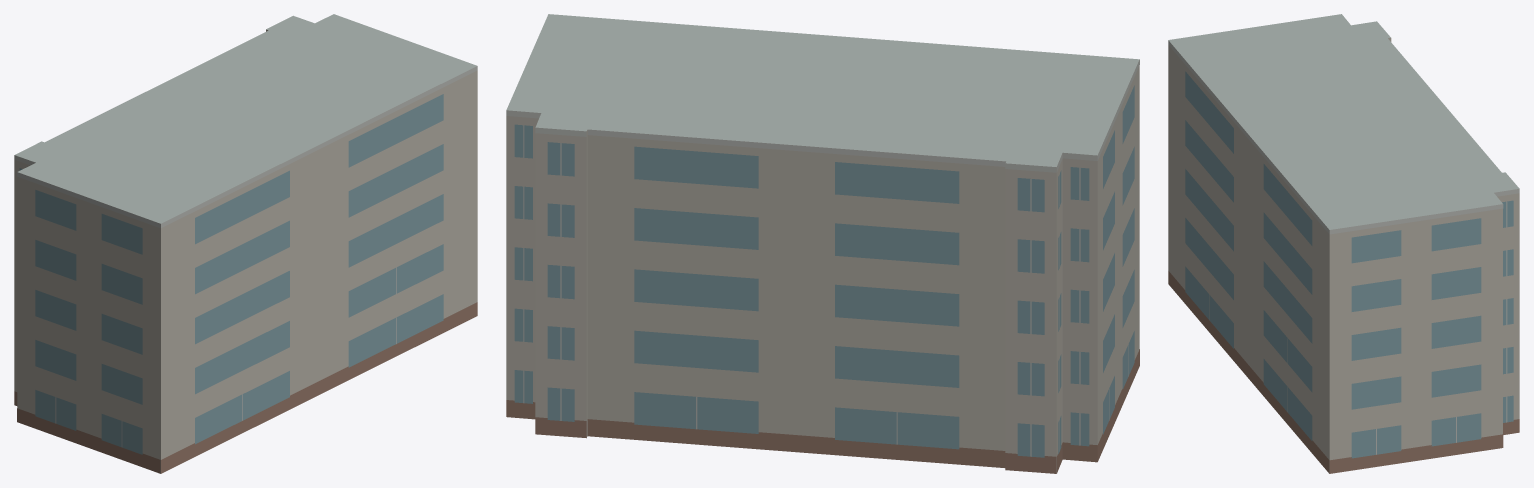
The model's file is survey-upis-33002435.glb.
3 renders of one model, left to right at view 1: azimuth 30°, elevation 25°; view 2: azimuth 150°, elevation 25°; view 3: azimuth 270°, elevation 25°, orthographic. The views are drawn at different scales.
Visible parts, largest first — view 1: survey-upis-33002435.tmp; view 2: survey-upis-33002435.tmp; view 3: survey-upis-33002435.tmp.
Part boxes in pixels (x1=…): survey-upis-33002435.tmp: x1=14, y1=14, x2=477, y2=473; survey-upis-33002435.tmp: x1=506, y1=14, x2=1139, y2=473; survey-upis-33002435.tmp: x1=1168, y1=14, x2=1519, y2=473.
Size of the model in its own units: 25.28 by 13.3 by 17.38.
